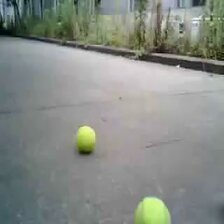tennis: (133, 195, 171, 224), (77, 126, 95, 151)
